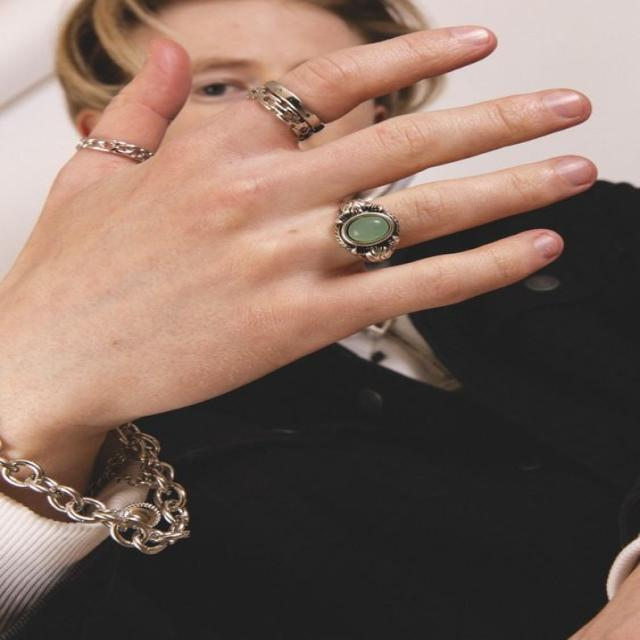Fingernail: (545, 93, 584, 118), (557, 160, 591, 185), (454, 28, 489, 46), (536, 235, 558, 256)
